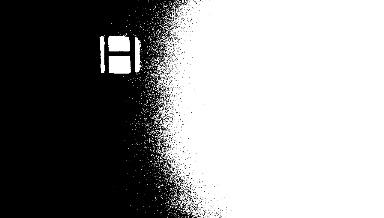H: (98, 35, 140, 73)
